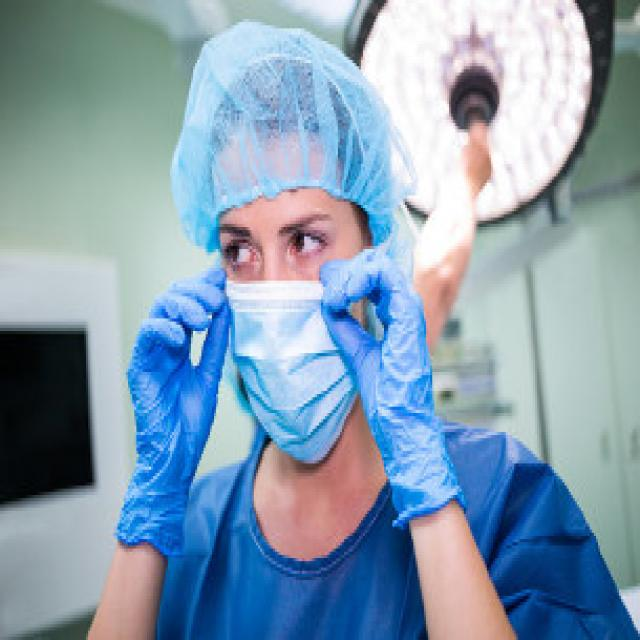mask: (209, 176, 358, 466)
